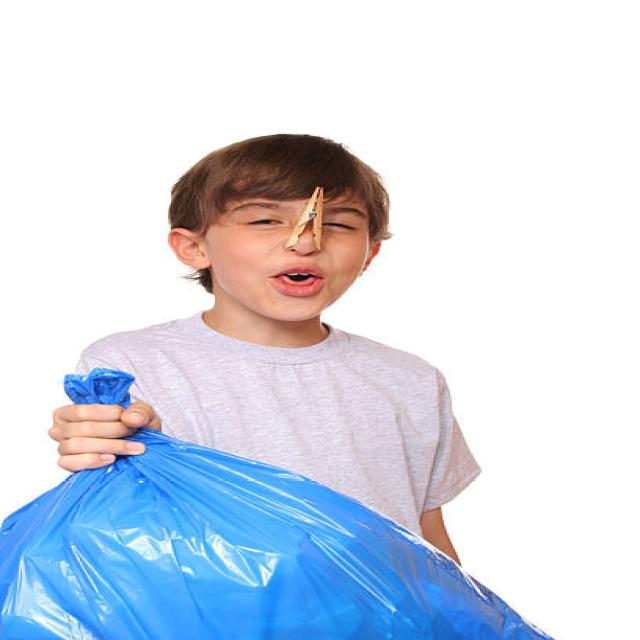trash: (11, 382, 560, 630)
